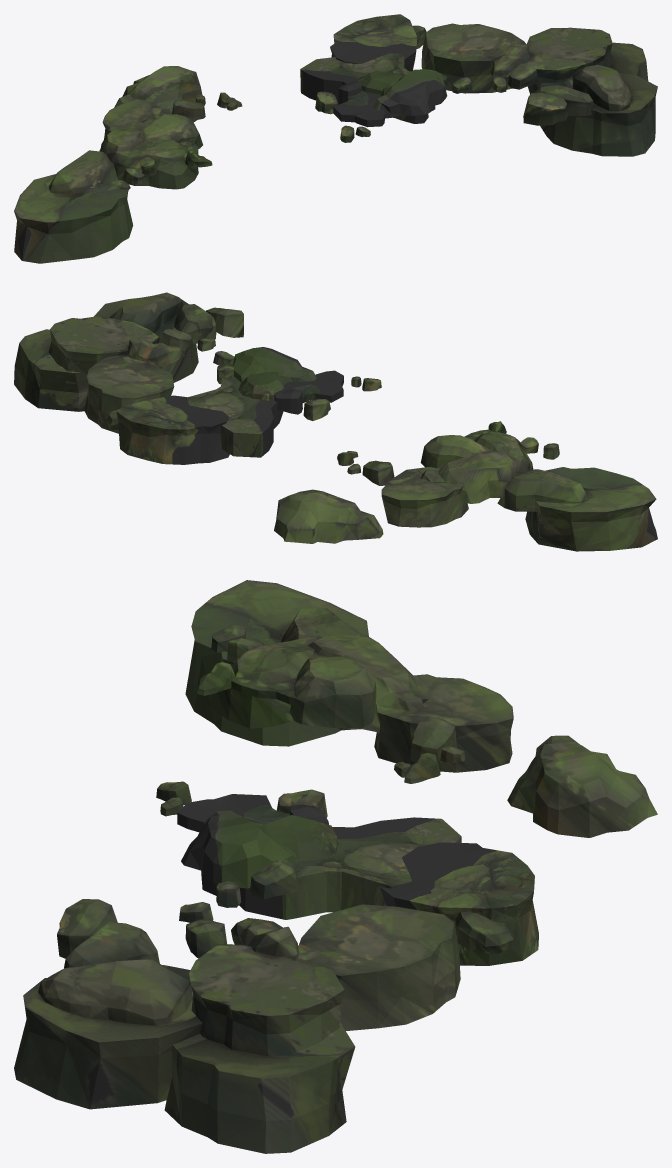
Rendered from X_Loading_SuiShi_01.FBX.
The picture shows the model from 3 angles, top to bottom: view 1: azimuth 30°, elevation 25°; view 2: azimuth 150°, elevation 25°; view 3: azimuth 270°, elevation 25°; orthographic projection. The views are drawn at different scales.
Parts seen in each view (by area): view 1: 2_Loading_SuiShi_01_05, 2_Loading_SuiShi_01_01, 2_Loading_SuiShi_01_02, 2_Loading_SuiShi_01_03, 2_Loading_SuiShi_01_06, 2_Loading_SuiShi_01_07, 2_Loading_SuiShi_01_04; view 2: 2_Loading_SuiShi_01_05, 2_Loading_SuiShi_01_01, 2_Loading_SuiShi_01_03, 2_Loading_SuiShi_01_02, 2_Loading_SuiShi_01_06, 2_Loading_SuiShi_01_07, 2_Loading_SuiShi_01_04; view 3: 2_Loading_SuiShi_01_01, 2_Loading_SuiShi_01_05, 2_Loading_SuiShi_01_03, 2_Loading_SuiShi_01_02, 2_Loading_SuiShi_01_06, 2_Loading_SuiShi_01_07, 2_Loading_SuiShi_01_04.
Boxes of the visible parts, x1,y1,x2,y2 form: 2_Loading_SuiShi_01_05: (14,99,212,263); 2_Loading_SuiShi_01_01: (490,27,657,156); 2_Loading_SuiShi_01_02: (300,53,472,142); 2_Loading_SuiShi_01_03: (330,14,526,93); 2_Loading_SuiShi_01_06: (114,66,202,114); 2_Loading_SuiShi_01_07: (172,92,242,121); 2_Loading_SuiShi_01_04: (315,91,337,114); 2_Loading_SuiShi_01_05: (381,421,657,551); 2_Loading_SuiShi_01_01: (14,292,243,411); 2_Loading_SuiShi_01_03: (84,355,229,464); 2_Loading_SuiShi_01_02: (186,347,381,457); 2_Loading_SuiShi_01_06: (274,489,383,543); 2_Loading_SuiShi_01_07: (337,451,394,485); 2_Loading_SuiShi_01_04: (303,398,330,420); 2_Loading_SuiShi_01_01: (14,899,355,1153); 2_Loading_SuiShi_01_05: (185,580,513,772); 2_Loading_SuiShi_01_03: (297,842,538,1030); 2_Loading_SuiShi_01_02: (156,781,461,919); 2_Loading_SuiShi_01_06: (507,735,657,837); 2_Loading_SuiShi_01_07: (394,717,465,783); 2_Loading_SuiShi_01_04: (276,789,327,817).
Size of the model in its own units: 1227 by 168 by 637.
Materials: 1 (1 with a texture image).
